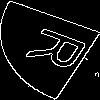R: (25, 25, 100, 78)
